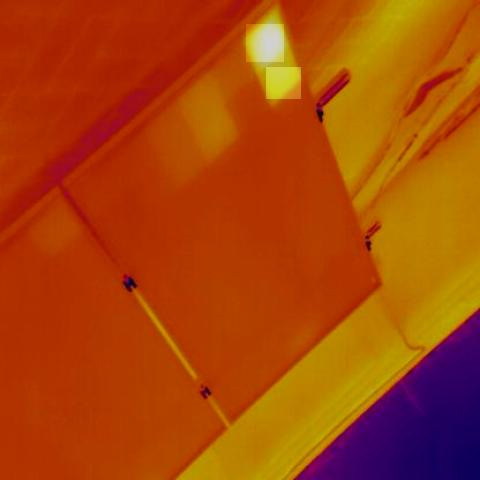fault: (246, 24, 284, 62), (266, 68, 301, 100)
